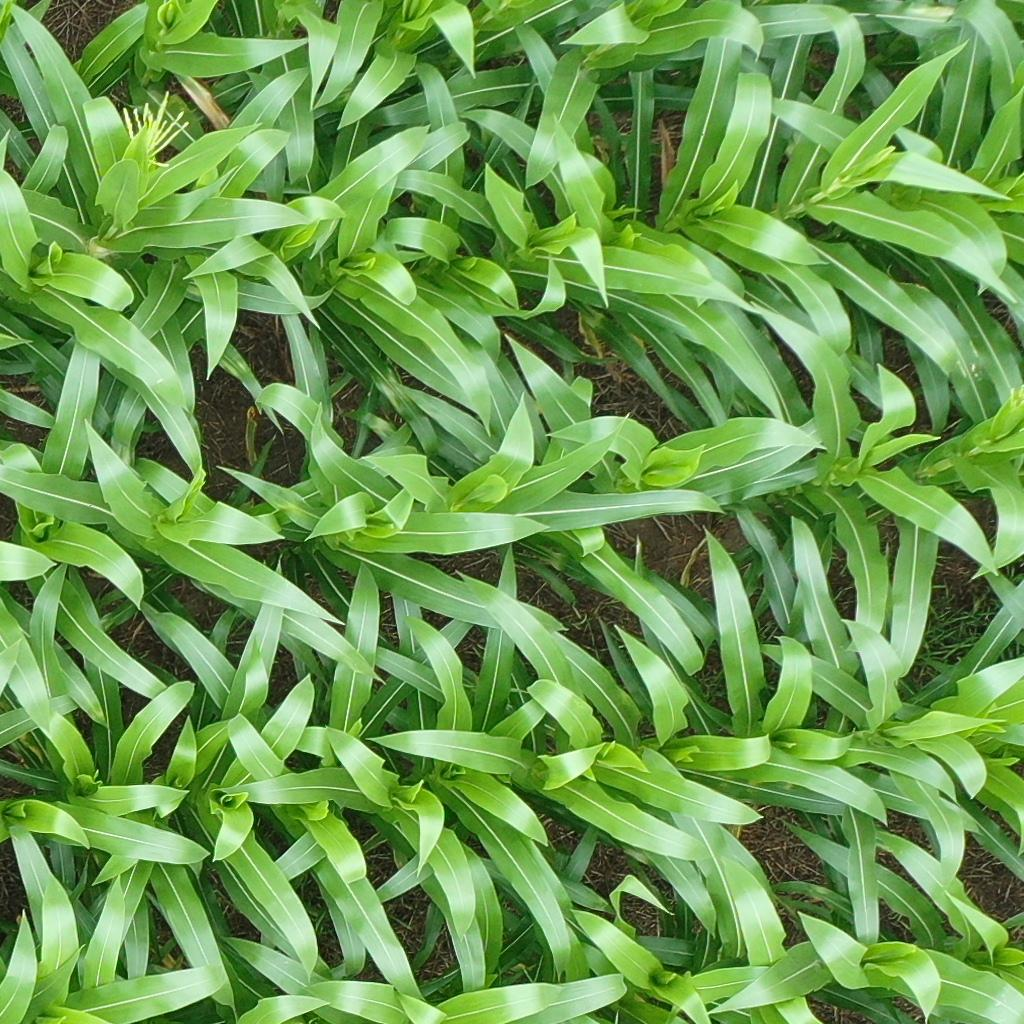Tassel: (119, 85, 191, 172)
